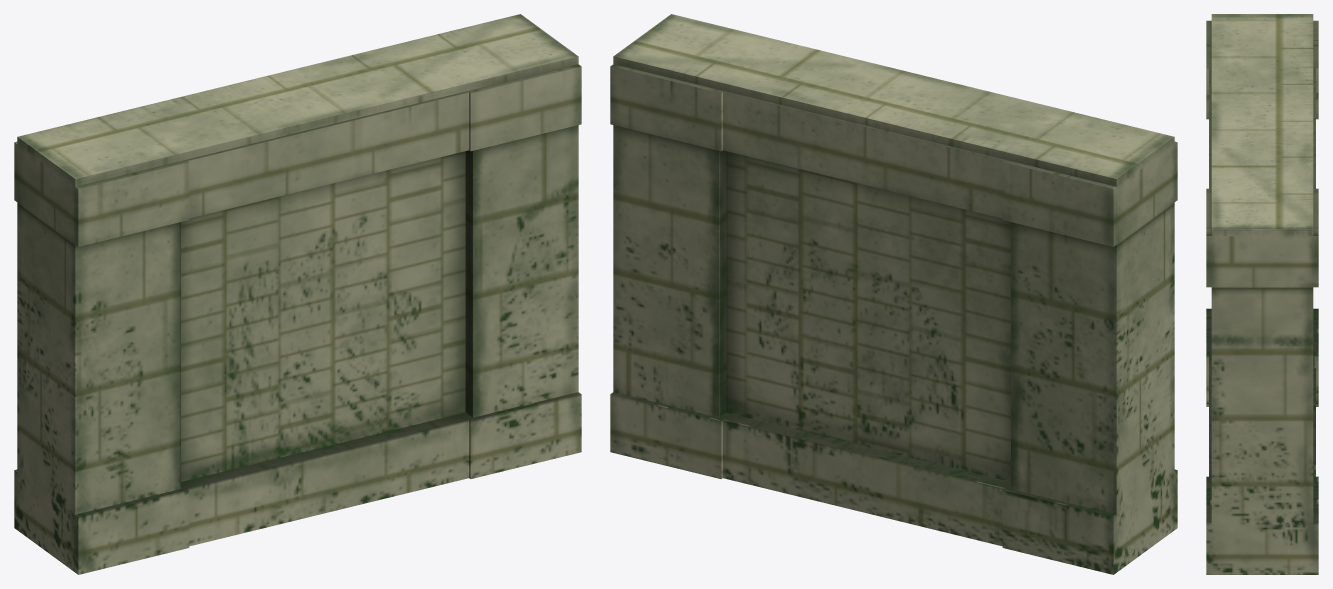
Rendered from Wall.fbx.
3 views of the same model, side by side, from view 1: azimuth 30°, elevation 25°; view 2: azimuth 150°, elevation 25°; view 3: azimuth 270°, elevation 25° (orthographic). The views are drawn at different scales.
Visible parts, largest first — view 1: Wall; view 2: Wall; view 3: Wall.
Part boxes in pixels (<box>): Wall: <box>14,14,581,574</box>; Wall: <box>610,14,1177,574</box>; Wall: <box>1206,14,1318,574</box>.
Size of the model in its own units: 684 by 511 by 151.
1 material, 1 textured.
